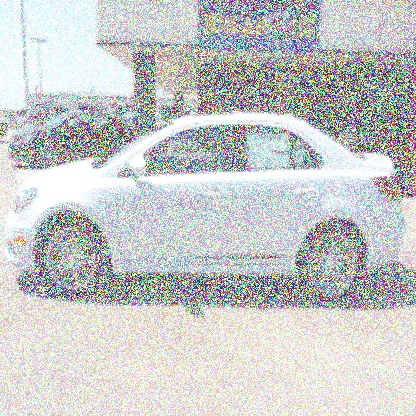Vehicle: (1, 114, 410, 316)
